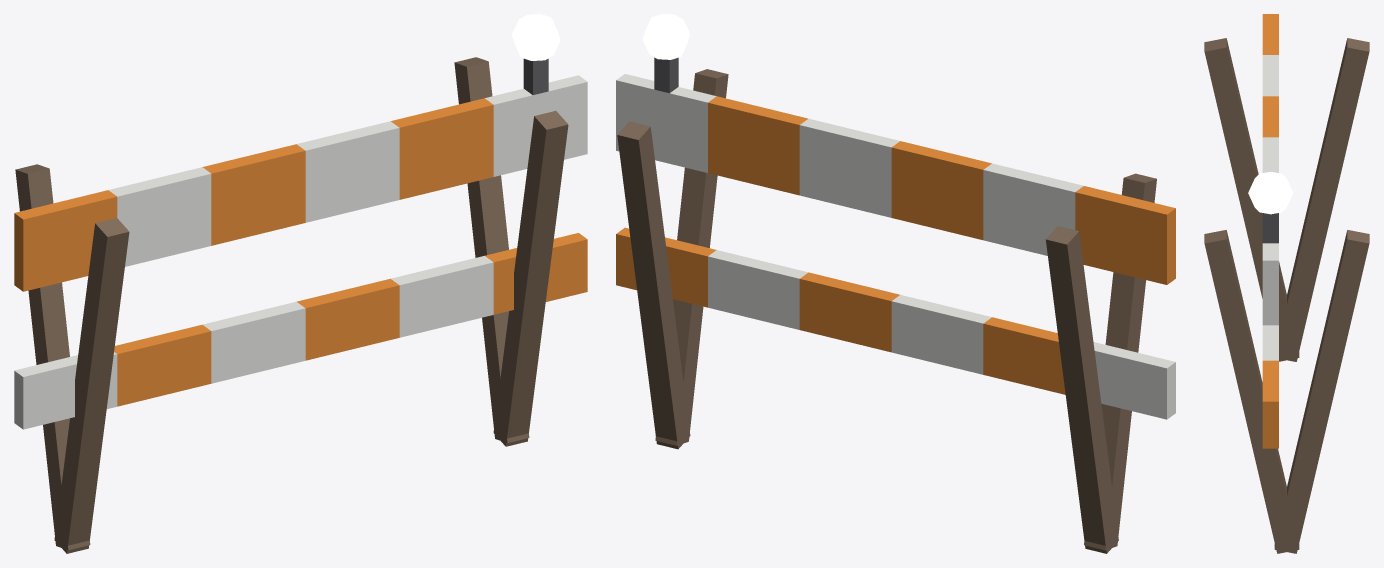
The model's file is Sawhorse.glb.
The picture shows the model from 3 angles, left to right: view 1: azimuth 30°, elevation 25°; view 2: azimuth 150°, elevation 25°; view 3: azimuth 270°, elevation 25°; orthographic projection. The views are drawn at different scales.
Parts seen in each view (by area): view 1: Sawhorse_cube.012, Sawhorse_cube.014, Sawhorse_cube.004, Sawhorse_cube.006, Sawhorse_cube.008, Sawhorse_cube.002, Sawhorse_cube, Sawhorse_cube.015, Sawhorse_cube.013, Sawhorse_cube.009, Sawhorse_cube.005, Sawhorse_cube.007 (+6 smaller); view 2: Sawhorse_cube.013, Sawhorse_cube.015, Sawhorse_cube, Sawhorse_cube.004, Sawhorse_cube.006, Sawhorse_cube.008, Sawhorse_cube.002, Sawhorse_cube.010, Sawhorse_cube.014, Sawhorse_cube.012, Sawhorse_cube.005, Sawhorse_cube.007 (+6 smaller); view 3: Sawhorse_cube.015, Sawhorse_cube.013, Sawhorse_cube.014, Sawhorse_cube.012, Sawhorse_cube.011, Sawhorse_sphere, Sawhorse_cube.010, Sawhorse_cube.002, Sawhorse_cube.004, Sawhorse_cube, Sawhorse_cube.009, Sawhorse_cube.006 (+1 smaller).
Boxes of the visible parts, <box> form: Sawhorse_cube.012: <box>54,218,129,553</box>; Sawhorse_cube.014: <box>493,111,568,446</box>; Sawhorse_cube.004: <box>202,144,305,245</box>; Sawhorse_cube.006: <box>297,121,399,222</box>; Sawhorse_cube.008: <box>391,98,493,199</box>; Sawhorse_cube.002: <box>108,167,211,266</box>; Sawhorse_cube: <box>14,190,117,291</box>; Sawhorse_cube.015: <box>454,57,529,442</box>; Sawhorse_cube.013: <box>15,164,90,550</box>; Sawhorse_cube.009: <box>391,256,493,337</box>; Sawhorse_cube.005: <box>203,301,305,383</box>; Sawhorse_cube.007: <box>297,278,399,360</box>; Sawhorse_cube.013: <box>1045,226,1118,553</box>; Sawhorse_cube.015: <box>617,121,690,449</box>; Sawhorse_cube: <box>1075,186,1175,284</box>; Sawhorse_cube.004: <box>891,141,991,239</box>; Sawhorse_cube.006: <box>799,118,899,217</box>; Sawhorse_cube.008: <box>708,96,807,195</box>; Sawhorse_cube.002: <box>983,163,1083,255</box>; Sawhorse_cube.010: <box>616,74,716,172</box>; Sawhorse_cube.014: <box>655,69,728,445</box>; Sawhorse_cube.012: <box>1084,173,1156,550</box>; Sawhorse_cube.005: <box>891,295,991,374</box>; Sawhorse_cube.007: <box>799,272,899,352</box>; Sawhorse_cube.015: <box>1274,230,1369,553</box>; Sawhorse_cube.013: <box>1279,38,1369,361</box>; Sawhorse_cube.014: <box>1204,230,1299,553</box>; Sawhorse_cube.012: <box>1204,38,1299,361</box>; Sawhorse_cube.011: <box>1262,360,1278,448</box>; Sawhorse_sphere: <box>1248,171,1293,214</box>; Sawhorse_cube.010: <box>1262,243,1278,325</box>; Sawhorse_cube.002: <box>1262,55,1278,96</box>; Sawhorse_cube.004: <box>1262,96,1278,137</box>; Sawhorse_cube: <box>1262,14,1278,54</box>; Sawhorse_cube.009: <box>1262,325,1278,360</box>; Sawhorse_cube.006: <box>1262,137,1278,172</box>.
Bounding box in the file's own units: 1.8 × 1.31 × 0.509.
